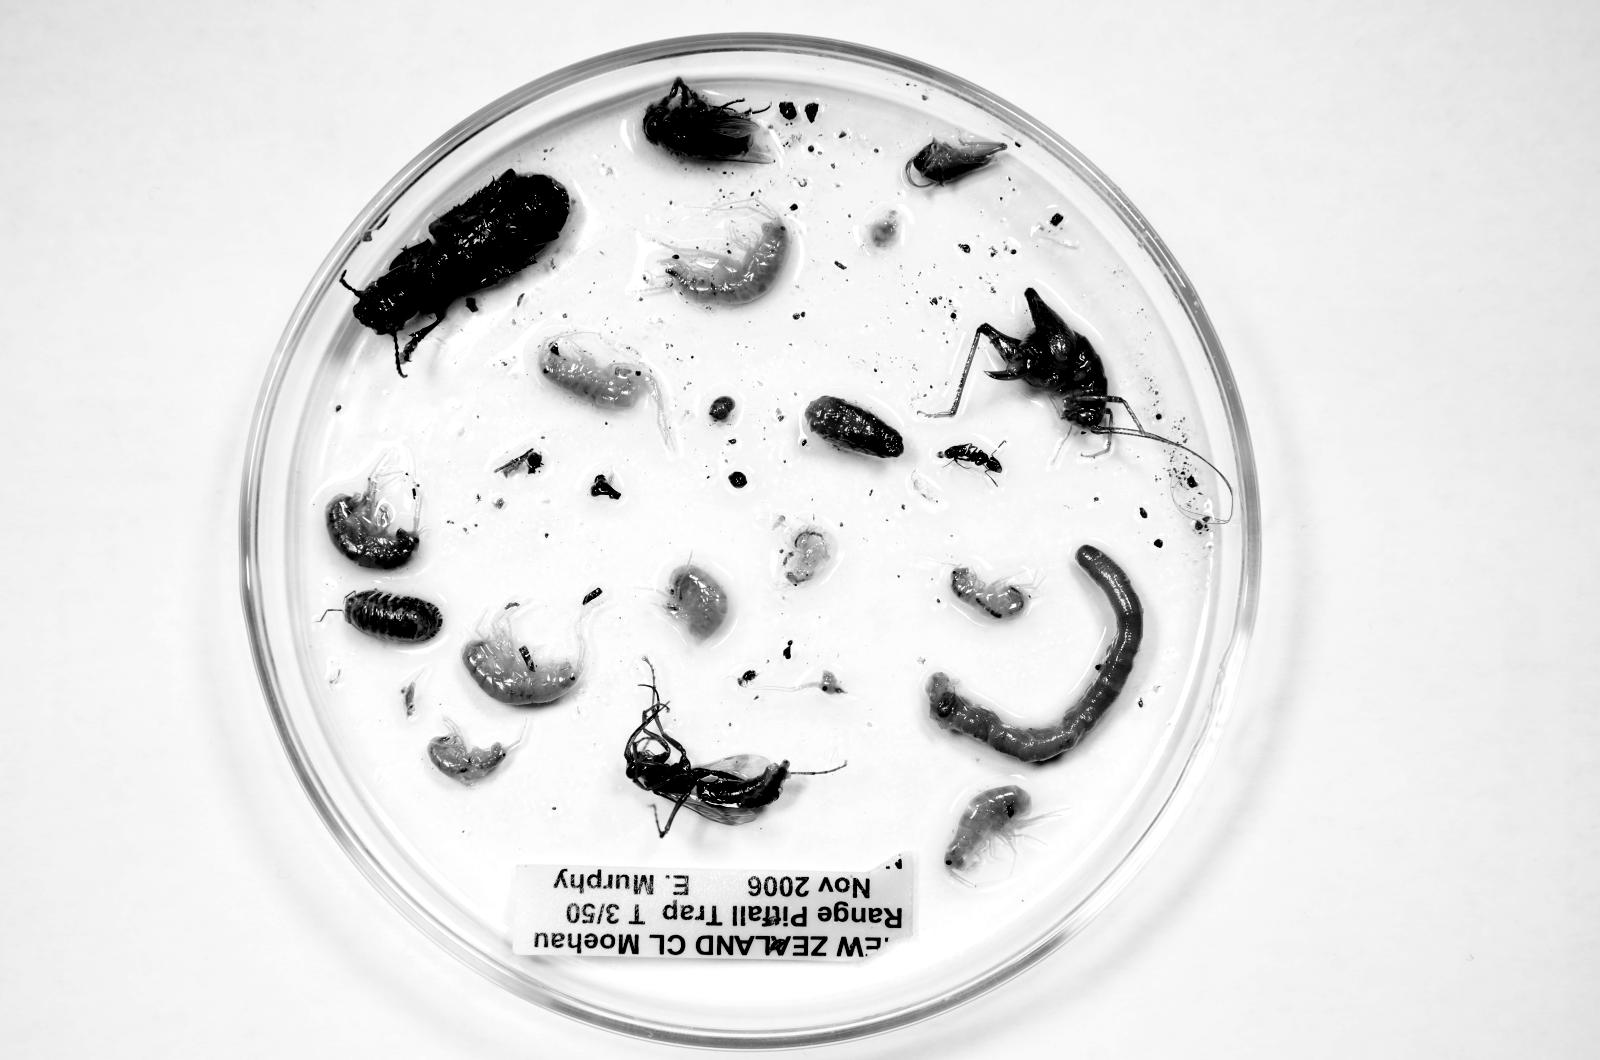amphipoda: (647, 199, 790, 304), (464, 602, 585, 705), (539, 331, 660, 408), (945, 786, 1035, 885), (326, 476, 420, 569), (428, 716, 519, 784), (667, 562, 727, 641), (951, 565, 1035, 619), (783, 524, 836, 586)
annelida: (925, 545, 1142, 762)
carabidae: (339, 169, 570, 377)
diptera: (643, 77, 773, 162)
formicidae: (938, 444, 1003, 474)
hymenoptera: (624, 684, 790, 825)
isopoda: (344, 589, 442, 644)
orthoptera: (927, 289, 1147, 437), (906, 137, 1008, 187)
